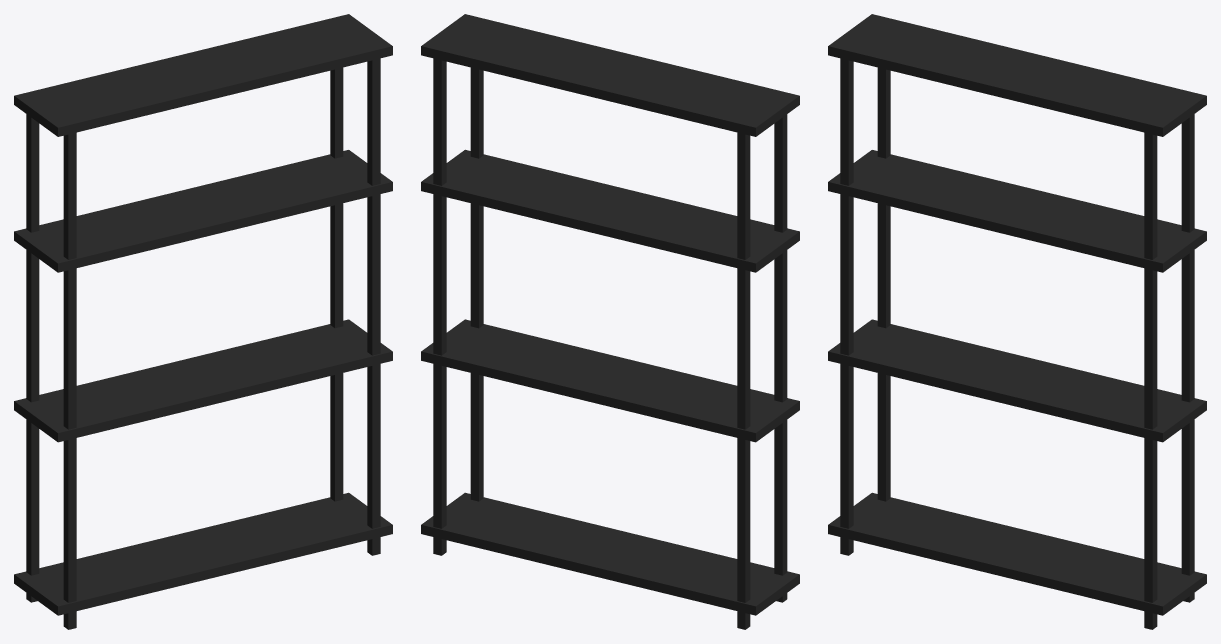
File: Shelves_01.fbx
The picture shows the model from 3 angles, left to right: view 1: azimuth 30°, elevation 25°; view 2: azimuth 150°, elevation 25°; view 3: azimuth 330°, elevation 25°; orthographic projection.
Visible parts, largest first — view 1: Shelves_01; view 2: Shelves_01; view 3: Shelves_01.
Boxes of the visible parts, x1,y1,x2,y2 form: Shelves_01: [14, 14, 392, 629]; Shelves_01: [421, 14, 799, 629]; Shelves_01: [828, 14, 1206, 629].
Bounding box in the file's own units: 728 × 1051 × 165.
